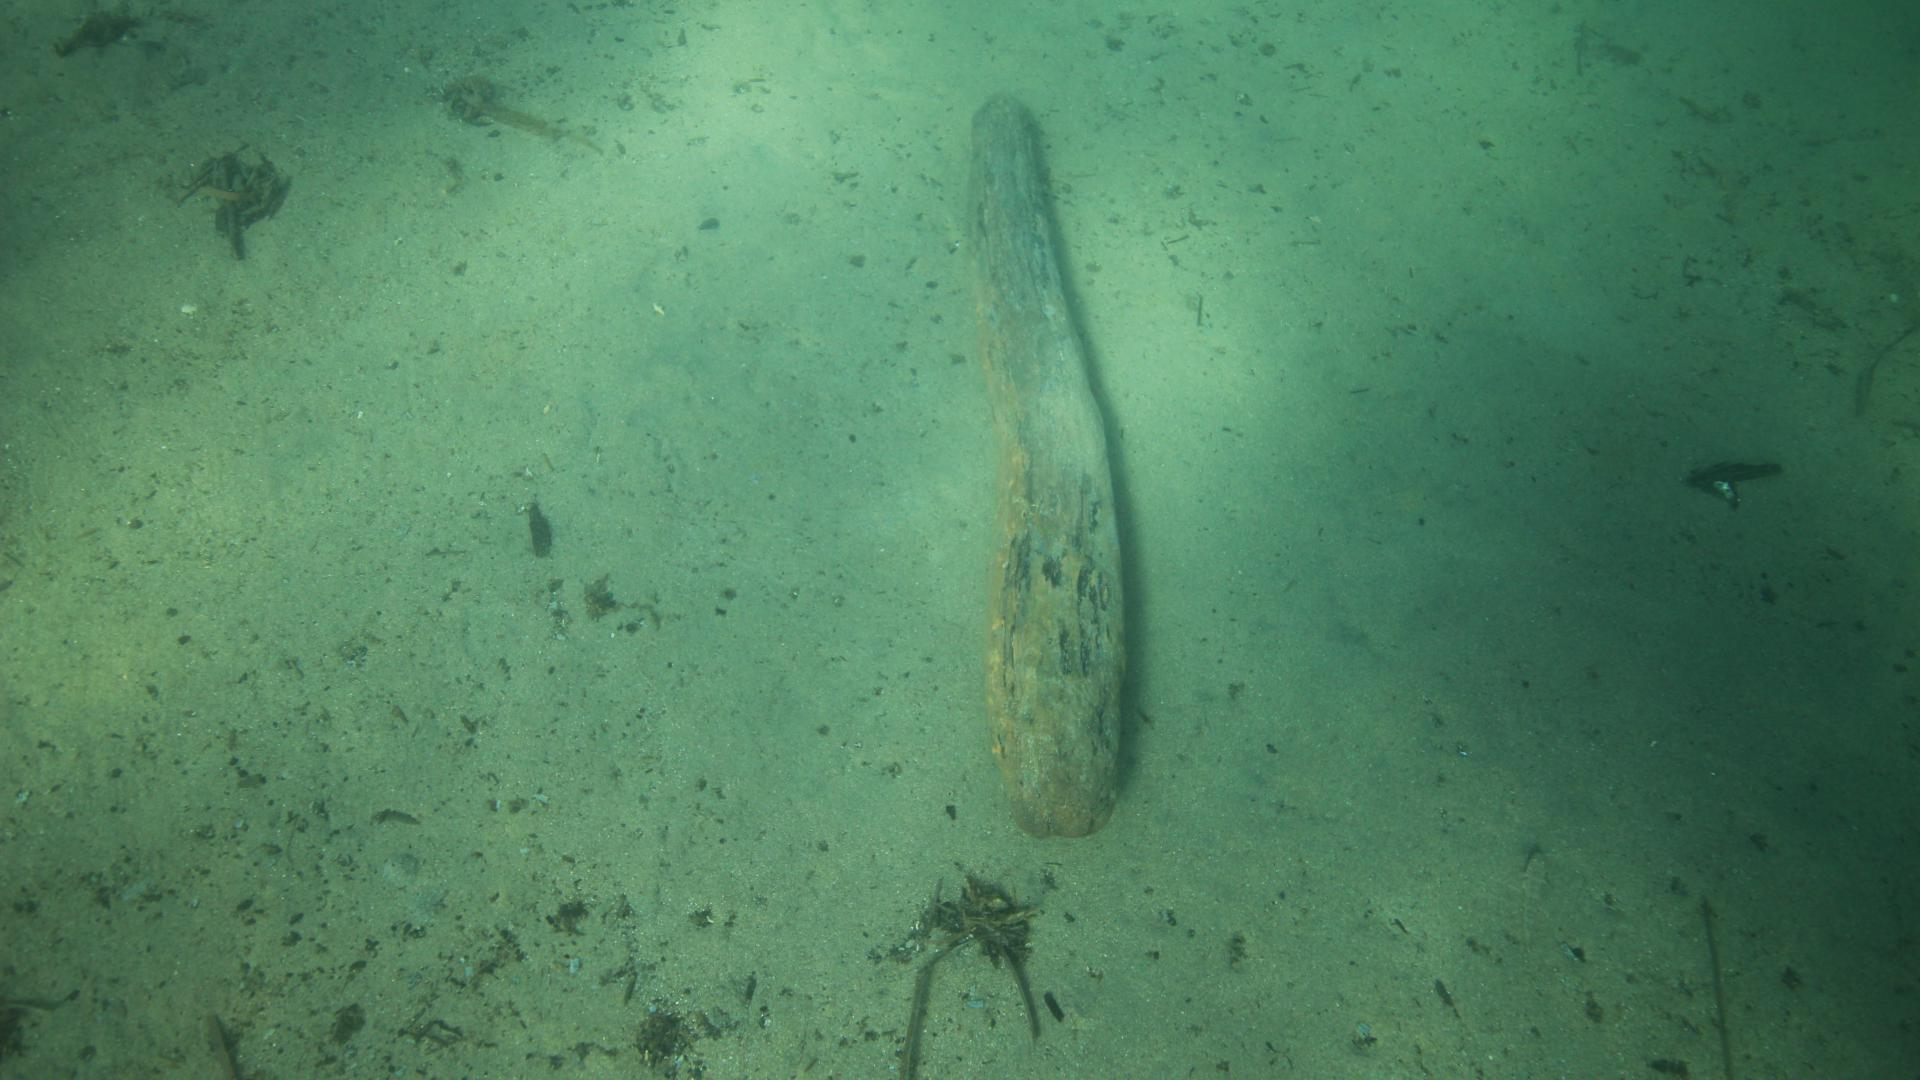wood: (965, 94, 1126, 837)
